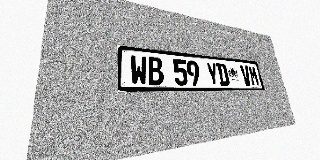5: (173, 59, 189, 85)
9: (186, 60, 201, 86)
B: (147, 56, 164, 85)
D: (216, 63, 230, 86)
M: (248, 66, 260, 86)
V: (240, 65, 252, 86)
W: (130, 55, 148, 85)
Y: (206, 62, 220, 86)
